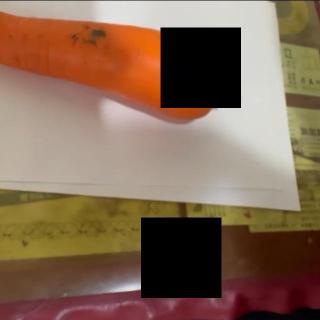carrot: (0, 4, 242, 121)
